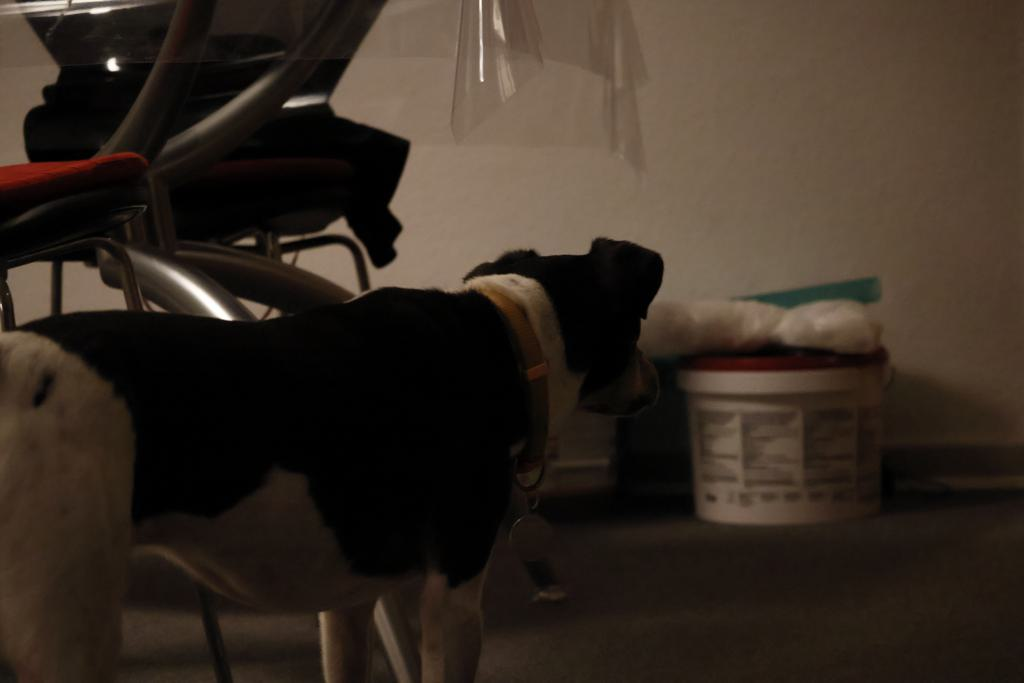Dog: (16, 221, 678, 683)
